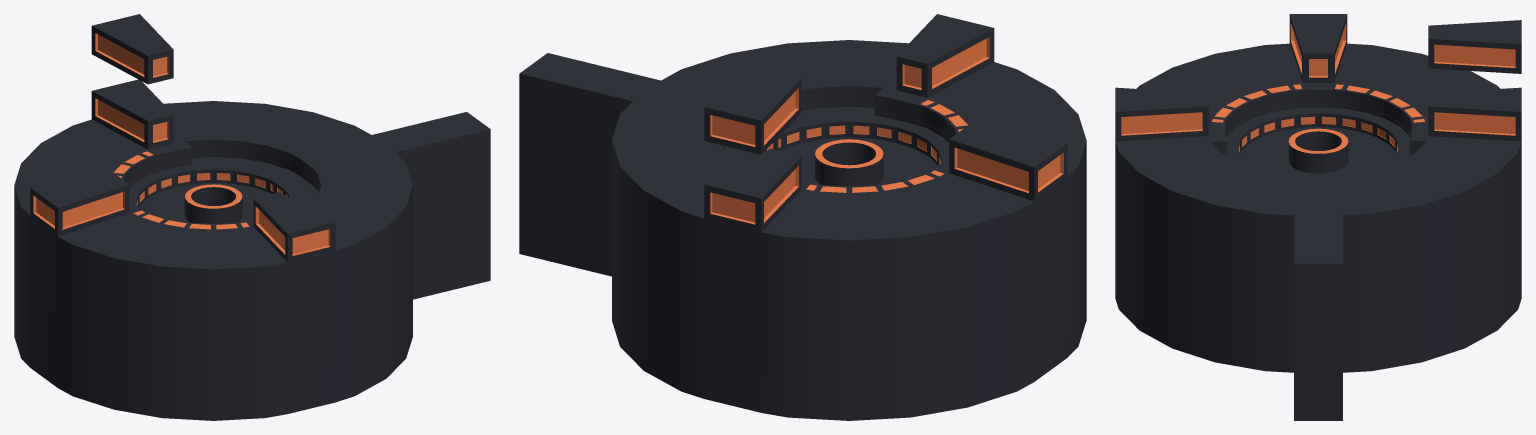
File: P_FirstLevel.fbx
3 views of the same model, side by side, from view 1: azimuth 30°, elevation 25°; view 2: azimuth 150°, elevation 25°; view 3: azimuth 270°, elevation 25° (orthographic). The views are drawn at different scales.
Visible parts, largest first — view 1: P_BaseLevel__HP, P_BaseLevel__HP.002; view 2: P_BaseLevel__HP, P_BaseLevel__HP.002; view 3: P_BaseLevel__HP, P_BaseLevel__HP.002.
Part boxes in pixels (left/top/right/bottom): P_BaseLevel__HP: left=14, top=79, right=490, bottom=420; P_BaseLevel__HP.002: left=91, top=14, right=173, bottom=84; P_BaseLevel__HP: left=519, top=14, right=1086, bottom=420; P_BaseLevel__HP.002: left=704, top=71, right=801, bottom=154; P_BaseLevel__HP: left=1115, top=14, right=1521, bottom=420; P_BaseLevel__HP.002: left=1428, top=20, right=1521, bottom=73.
Bounding box in the file's own units: 9479 × 5949 × 7392.
